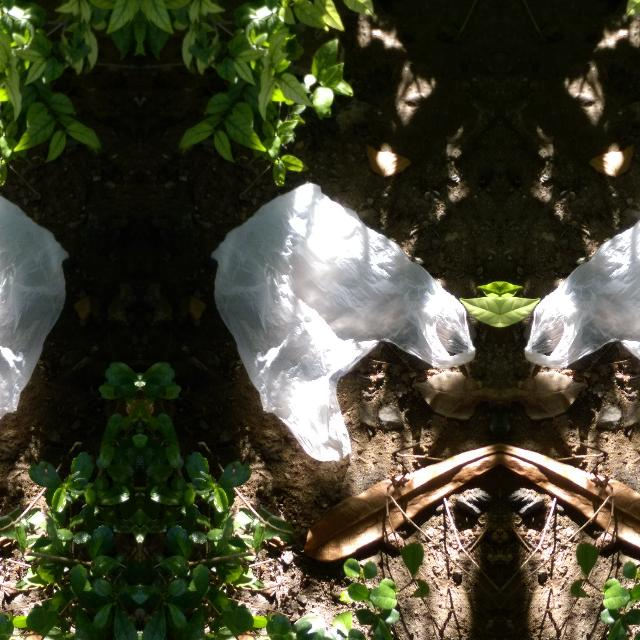Plastic: (200, 172, 482, 474), (516, 171, 640, 474), (0, 171, 77, 474)
